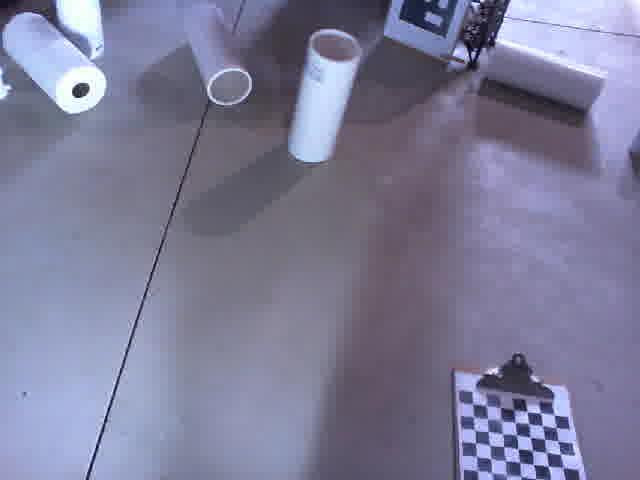coral: (287, 22, 363, 170), (483, 30, 611, 116), (175, 0, 256, 110)
